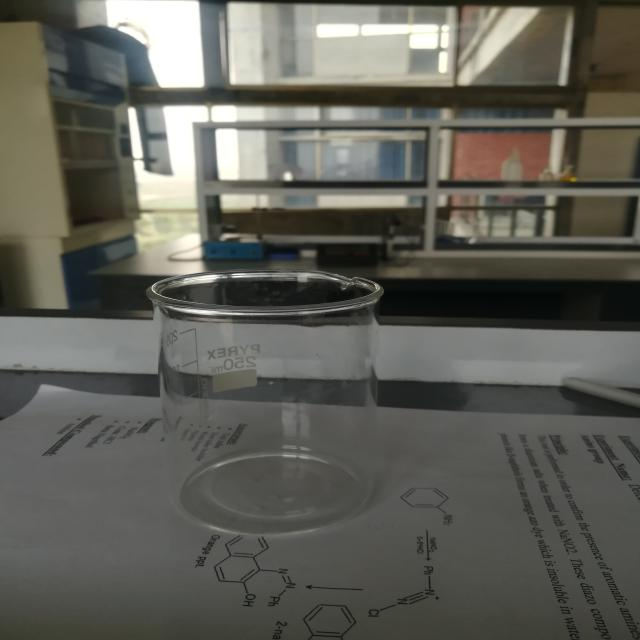Beaker: (120, 236, 443, 554)
